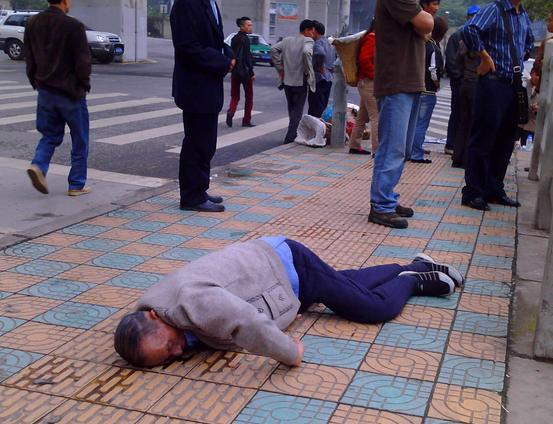falling: (107, 249, 499, 377)
standing: (363, 1, 440, 248), (161, 1, 242, 224), (23, 2, 99, 212), (465, 1, 516, 219), (225, 3, 264, 135), (278, 16, 309, 148)
